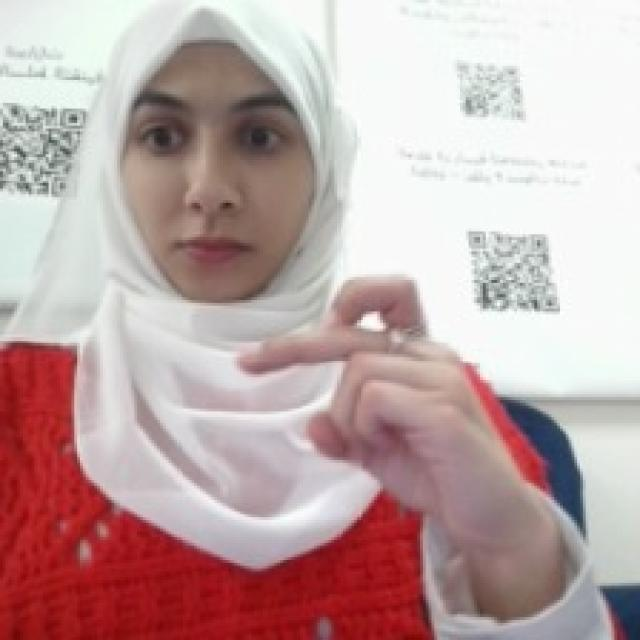sunday: (217, 263, 514, 506)
